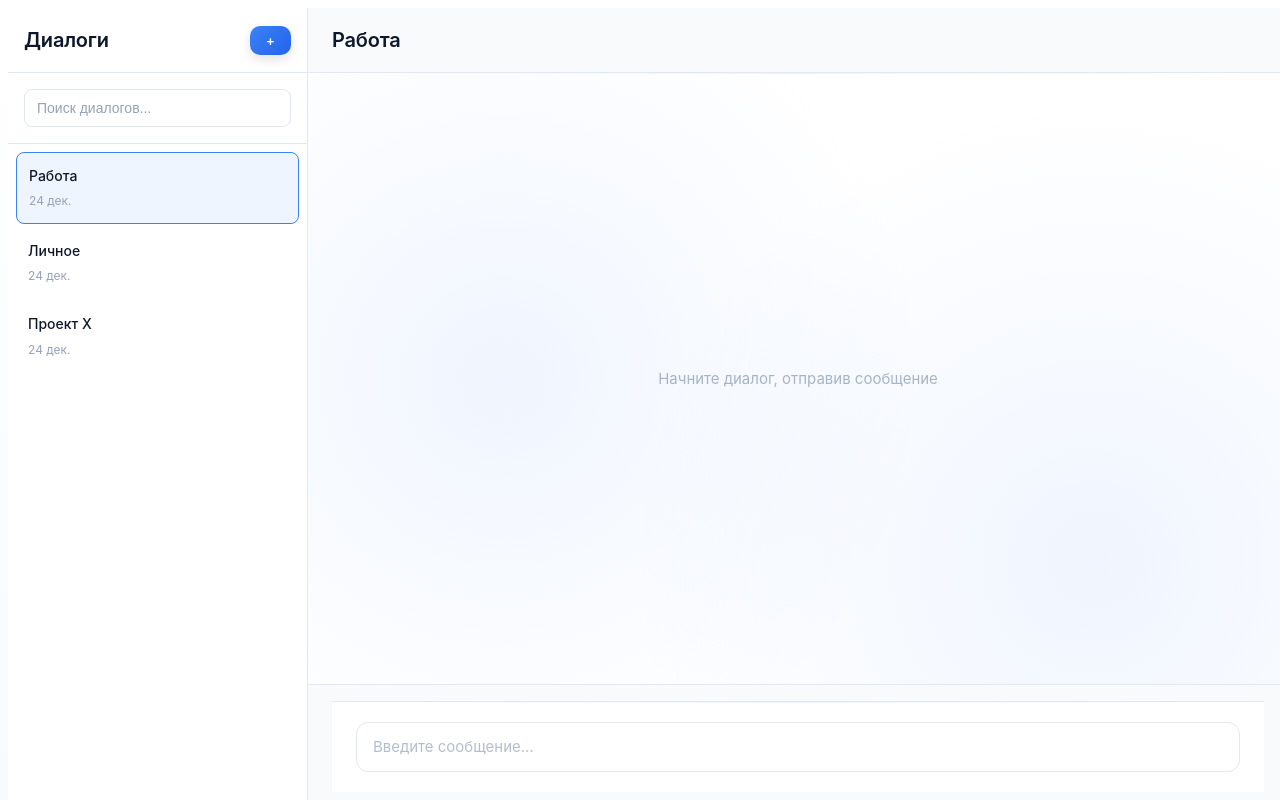
Test: ChatPage тесты › Тест 4: Поиск диалогов › должно показываться сообщение когда диалоги не найдены
The image size is (1280, 800).
Expected: the text "Работа" is shown, [29,167,77,184]
Type "Несуществующий" into the search field named "поиск по диалогам" at (158, 108), box [24,89,291,127]
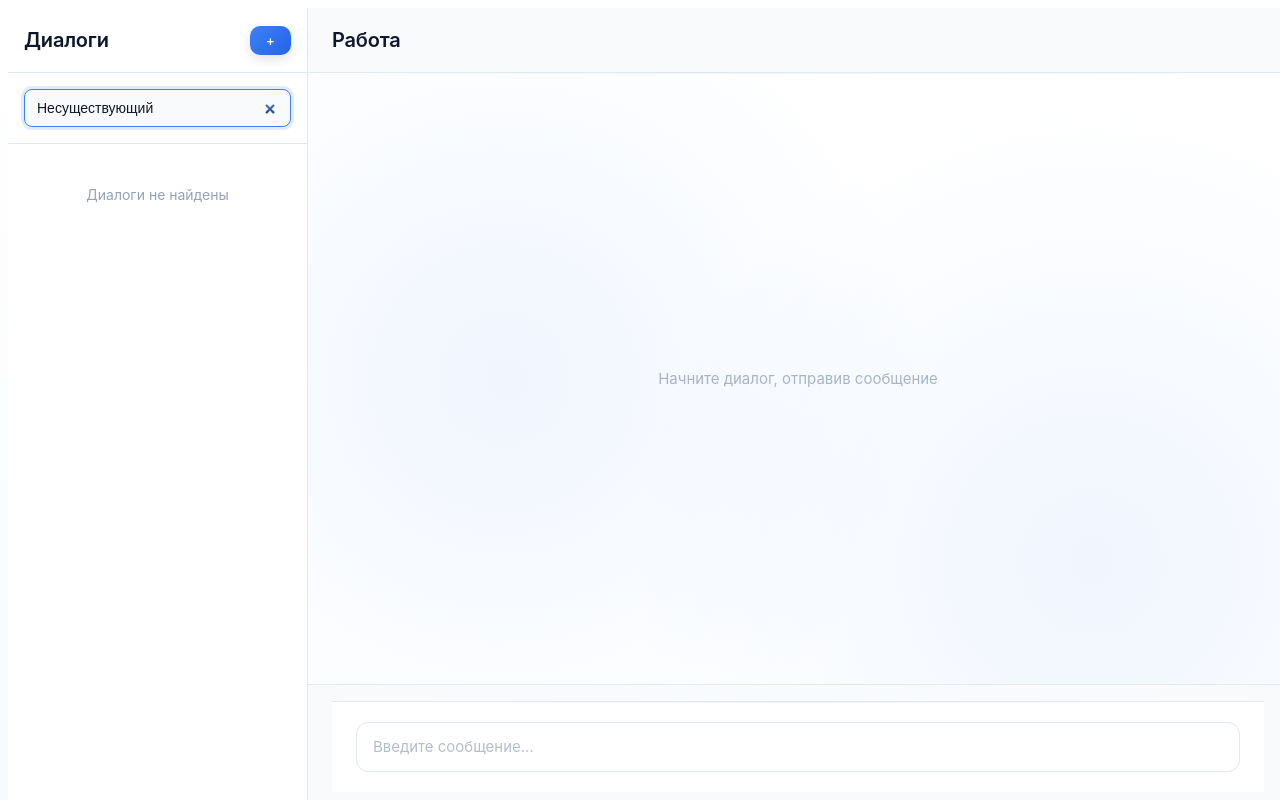
Expected: the text "Диалоги не найдены" is shown, [86,186,229,203]
